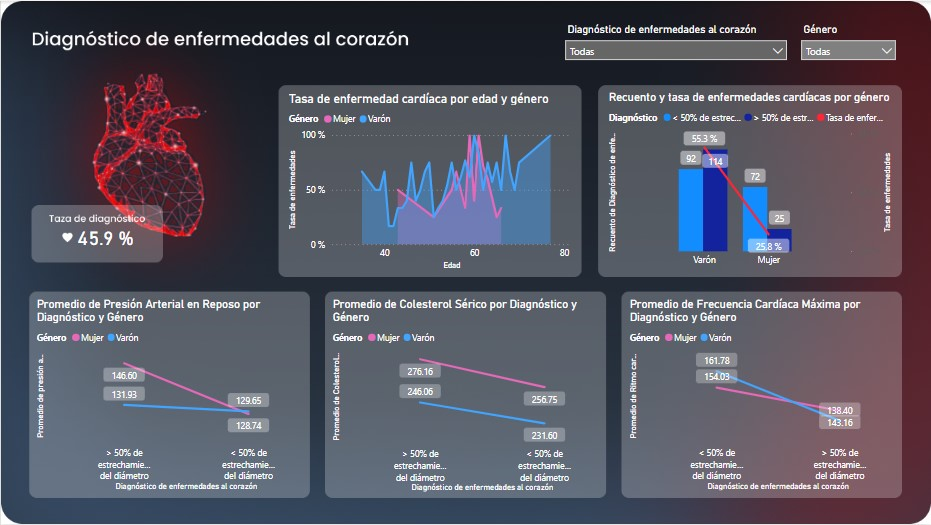

This screenshot's page, from the dashboard's own definition file:
{"tool":"powerbi","page":{"name":"Inicio","canvas":[1280,720],"ordinal":0},"visuals":[{"type":"lineClusteredColumnComboChart","title":"Recuento y tasa de enfermedades cardíacas por género","fields":{"Y2":["heart_disease_dataset.Heart Disease Rate"],"Series":["heart_disease_dataset.Diagnosis of Heart Disease"],"Category":["heart_disease_dataset.Género"],"Y":["CountNonNull(heart_disease_dataset.Diagnóstico de enfermedades al corazón)"]},"box":[831.3,122.5,399.1,251.9],"z":0},{"type":"areaChart","title":"Tasa de enfermedad cardíaca por edad y género","fields":{"Category":["heart_disease_dataset.Age"],"Y":["heart_disease_dataset.Heart Disease Rate"],"Series":["heart_disease_dataset.Género"]},"box":[390.9,123.9,399.1,250.5],"z":1000},{"type":"card","fields":{"Values":["heart_disease_dataset.Heart Disease Rate"]},"box":[95,295.9,97.7,57.8],"z":2000},{"type":"slicer","fields":{"Values":["heart_disease_dataset.Diagnóstico de enfermedades al corazón"]},"box":[766.6,26.2,324.8,72.9],"z":3000},{"type":"lineChart","title":"Promedio de Presión Arterial en Reposo por Diagnóstico y Género","fields":{"Y":["Avg(heart_disease_dataset.Resting Blood Pressure)"],"Series":["heart_disease_dataset.Género"],"Category":["heart_disease_dataset.Diagnóstico de enfermedades al corazón"]},"box":[44,407.4,377.1,271.1],"z":4000},{"type":"lineChart","title":"Promedio de Colesterol Sérico por Diagnóstico y Género","fields":{"Y":["Avg(heart_disease_dataset.Serum Cholestoral)"],"Series":["heart_disease_dataset.Género"],"Category":["heart_disease_dataset.Diagnóstico de enfermedades al corazón"]},"box":[451.4,407.4,377.1,272.5],"z":5000},{"type":"lineChart","title":"Promedio de Frecuencia Cardíaca Máxima por Diagnóstico y Género","fields":{"Y":["Avg(heart_disease_dataset.Maximum Heart Rate Achieved)"],"Series":["heart_disease_dataset.Género"],"Category":["heart_disease_dataset.Diagnóstico de enfermedades al corazón"]},"box":[860.2,407.4,373,271.1],"z":6000},{"type":"slicer","fields":{"Values":["heart_disease_dataset.Género"]},"box":[1091.4,26.2,150,63.3],"z":7000}]}

Visuals, with their boxes in screenshot pixels (x1, y1, x2, y2), scaled from the page's 1280x720 canvas onto the 931x525 screenshot:
"Recuento y tasa de enfermedades cardíacas por género" lineClusteredColumnComboChart: <region>605, 89, 895, 273</region>
"Tasa de enfermedad cardíaca por edad y género" areaChart: <region>284, 90, 575, 273</region>
card - heart_disease_dataset.Heart Disease Rate: <region>69, 216, 140, 258</region>
slicer - heart_disease_dataset.Diagnóstico de enfermedades al corazón: <region>558, 19, 794, 72</region>
"Promedio de Presión Arterial en Reposo por Diagnóstico y Género" lineChart: <region>32, 297, 306, 495</region>
"Promedio de Colesterol Sérico por Diagnóstico y Género" lineChart: <region>328, 297, 603, 496</region>
"Promedio de Frecuencia Cardíaca Máxima por Diagnóstico y Género" lineChart: <region>626, 297, 897, 495</region>
slicer - heart_disease_dataset.Género: <region>794, 19, 903, 65</region>
